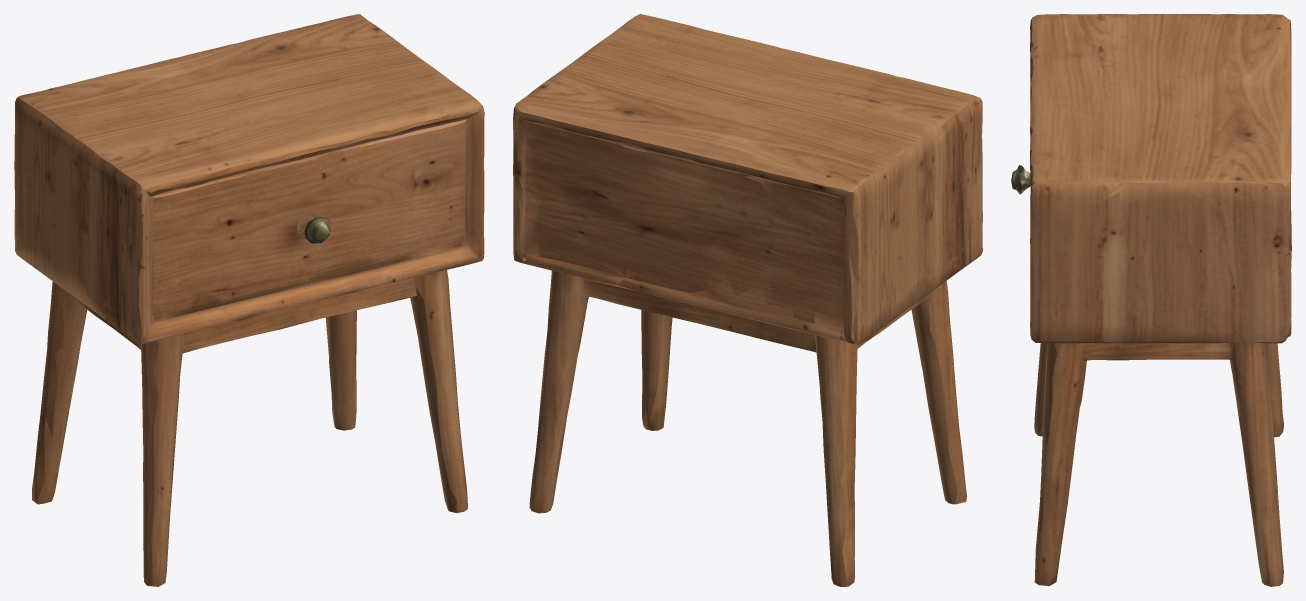
File: mundane_nightstand.glb
The picture shows the model from 3 angles, left to right: view 1: azimuth 30°, elevation 25°; view 2: azimuth 150°, elevation 25°; view 3: azimuth 270°, elevation 25°; orthographic projection.
Parts seen in each view (by area): view 1: geometry_0; view 2: geometry_0; view 3: geometry_0.
Part boxes in pixels (box(x1,y1,x2,y2)): geometry_0: box(14, 14, 484, 586); geometry_0: box(513, 14, 982, 586); geometry_0: box(1011, 14, 1291, 586).
Bounding box in the file's own units: 0.5802 × 0.65 × 0.4017.
Materials: 1 (1 with a texture image).
